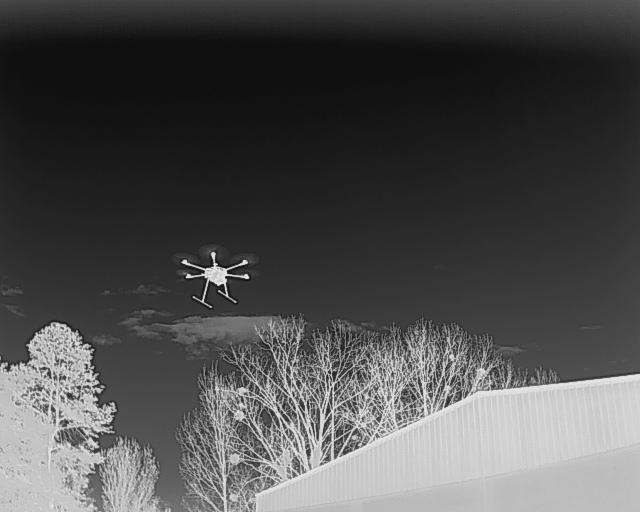drone: (172, 241, 256, 308)
